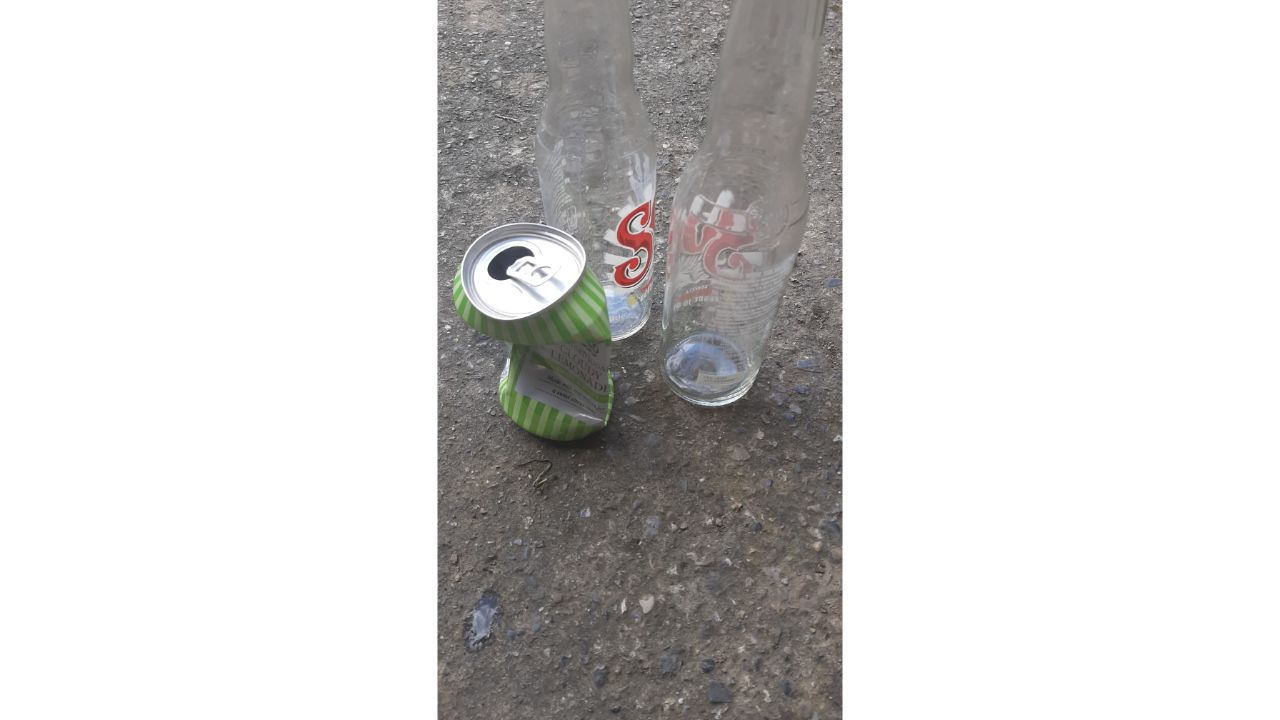Can: (446, 212, 621, 455)
